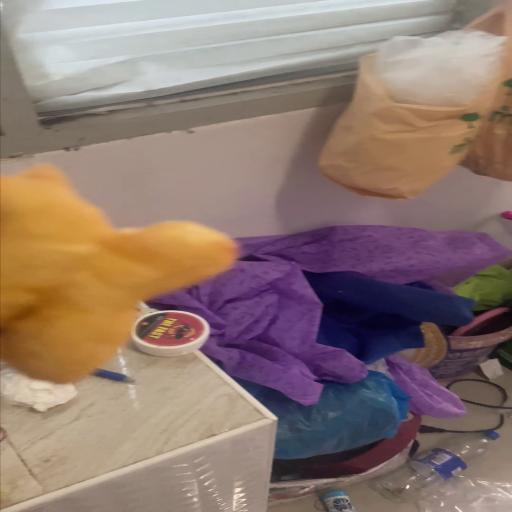street_golden_good: (0, 164, 234, 382)
